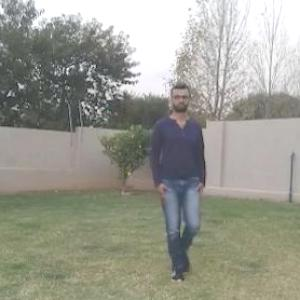follow: (157, 89, 203, 271)
